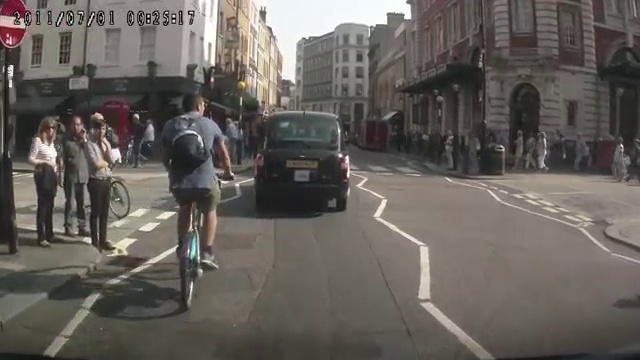cyclist_back: (164, 92, 232, 310)
